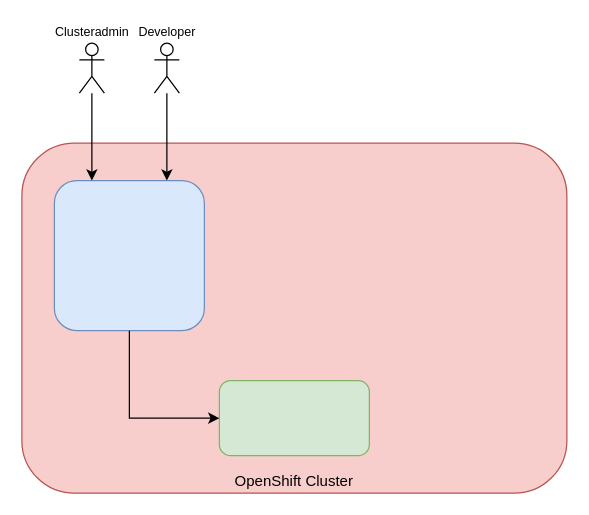
The diagram is 589 pixels wide and 515 high, and some of its shapes have lost their labels. The centre of each missing label's shape, as x and y in pixels:
"GitOps RBAC: Clusteradmin: ... Devteam A: ... Devteam B: ..." belongs at pixel 128 255.
"Namespace" belongs at pixel 293 417.
